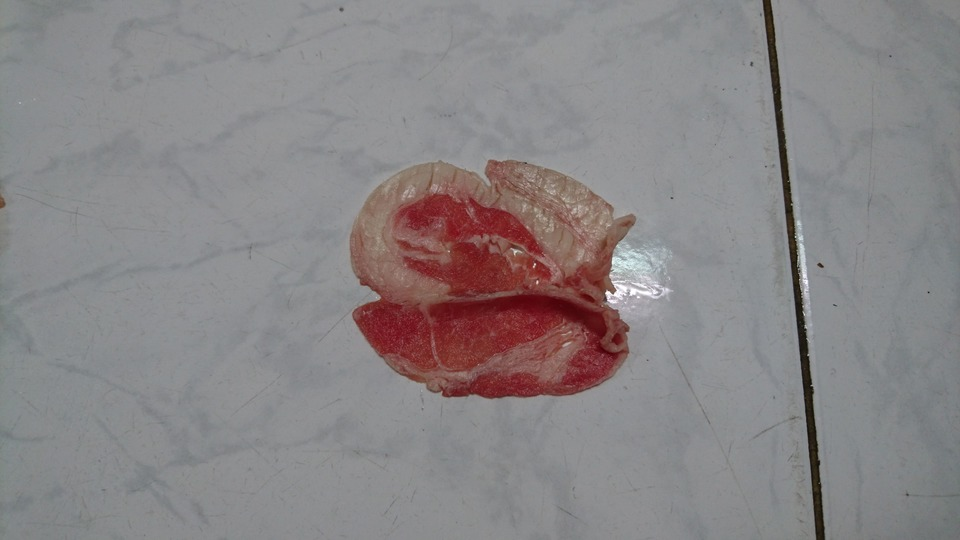restructured meat: (353, 157, 634, 401)
